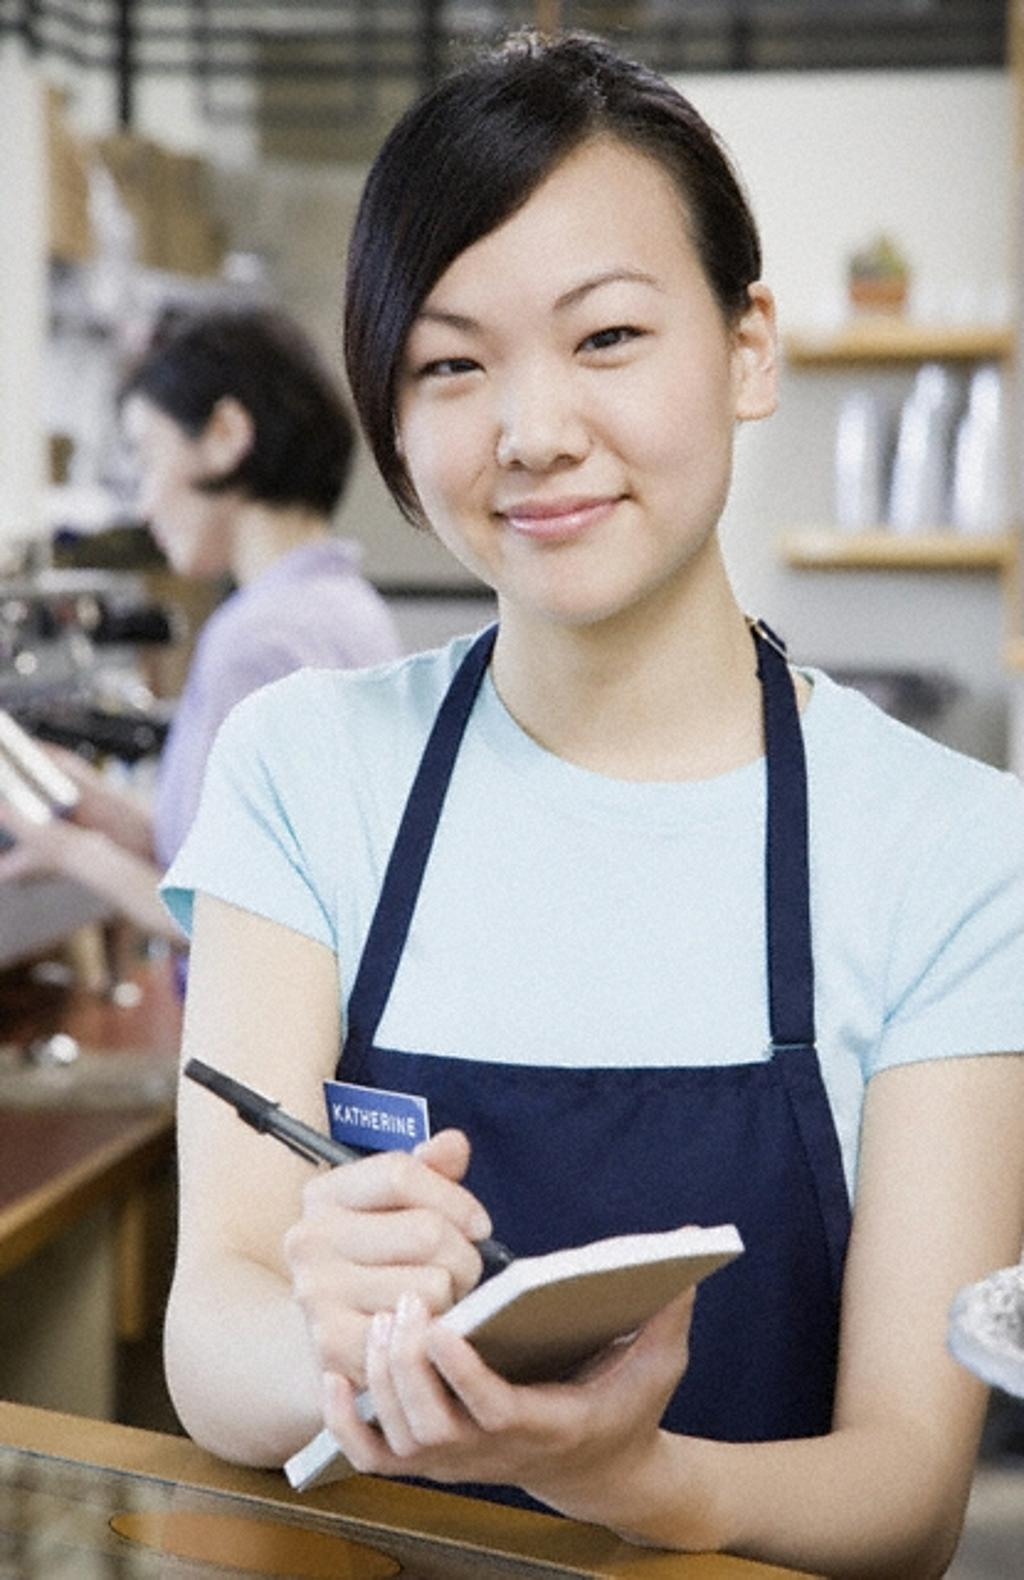face: (398, 145, 743, 611), (117, 392, 213, 577)
